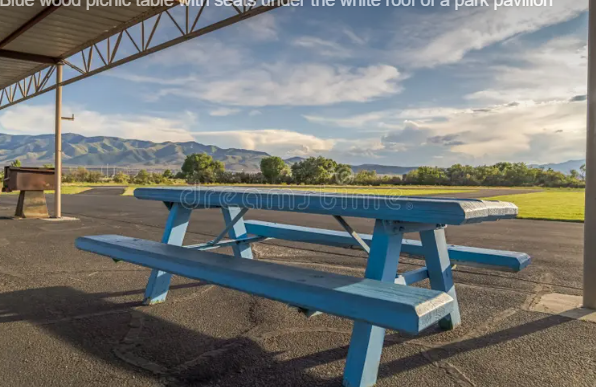obstacle: (70, 178, 539, 383)
